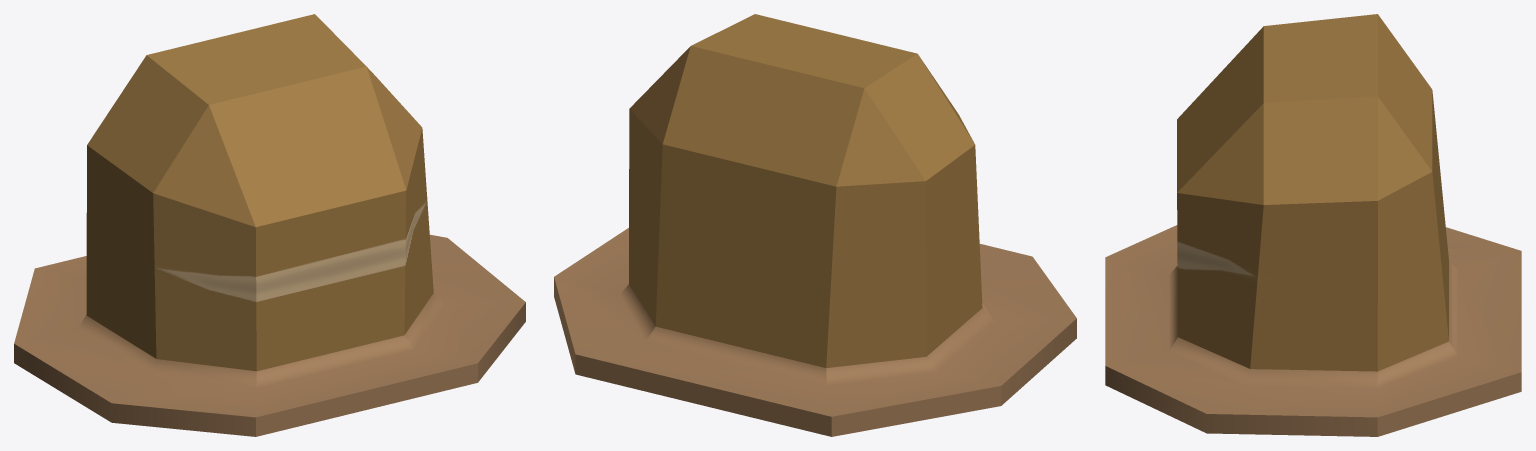
File: breadstick hat.fbx
The picture shows the model from 3 angles, left to right: view 1: azimuth 30°, elevation 25°; view 2: azimuth 150°, elevation 25°; view 3: azimuth 270°, elevation 25°; orthographic projection. The views are drawn at different scales.
Visible parts, largest first — view 1: polySurface647; view 2: polySurface647; view 3: polySurface647.
Part boxes in pixels (<box>): polySurface647: <box>14,14,525,436</box>; polySurface647: <box>554,14,1076,436</box>; polySurface647: <box>1105,14,1521,436</box>.
Size of the model in its own units: 218 by 132 by 181.
2 materials, 2 textured.
